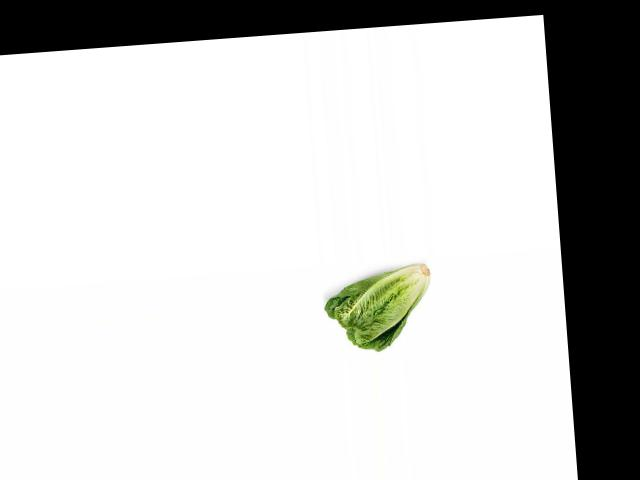lettuce: (322, 259, 443, 353)
